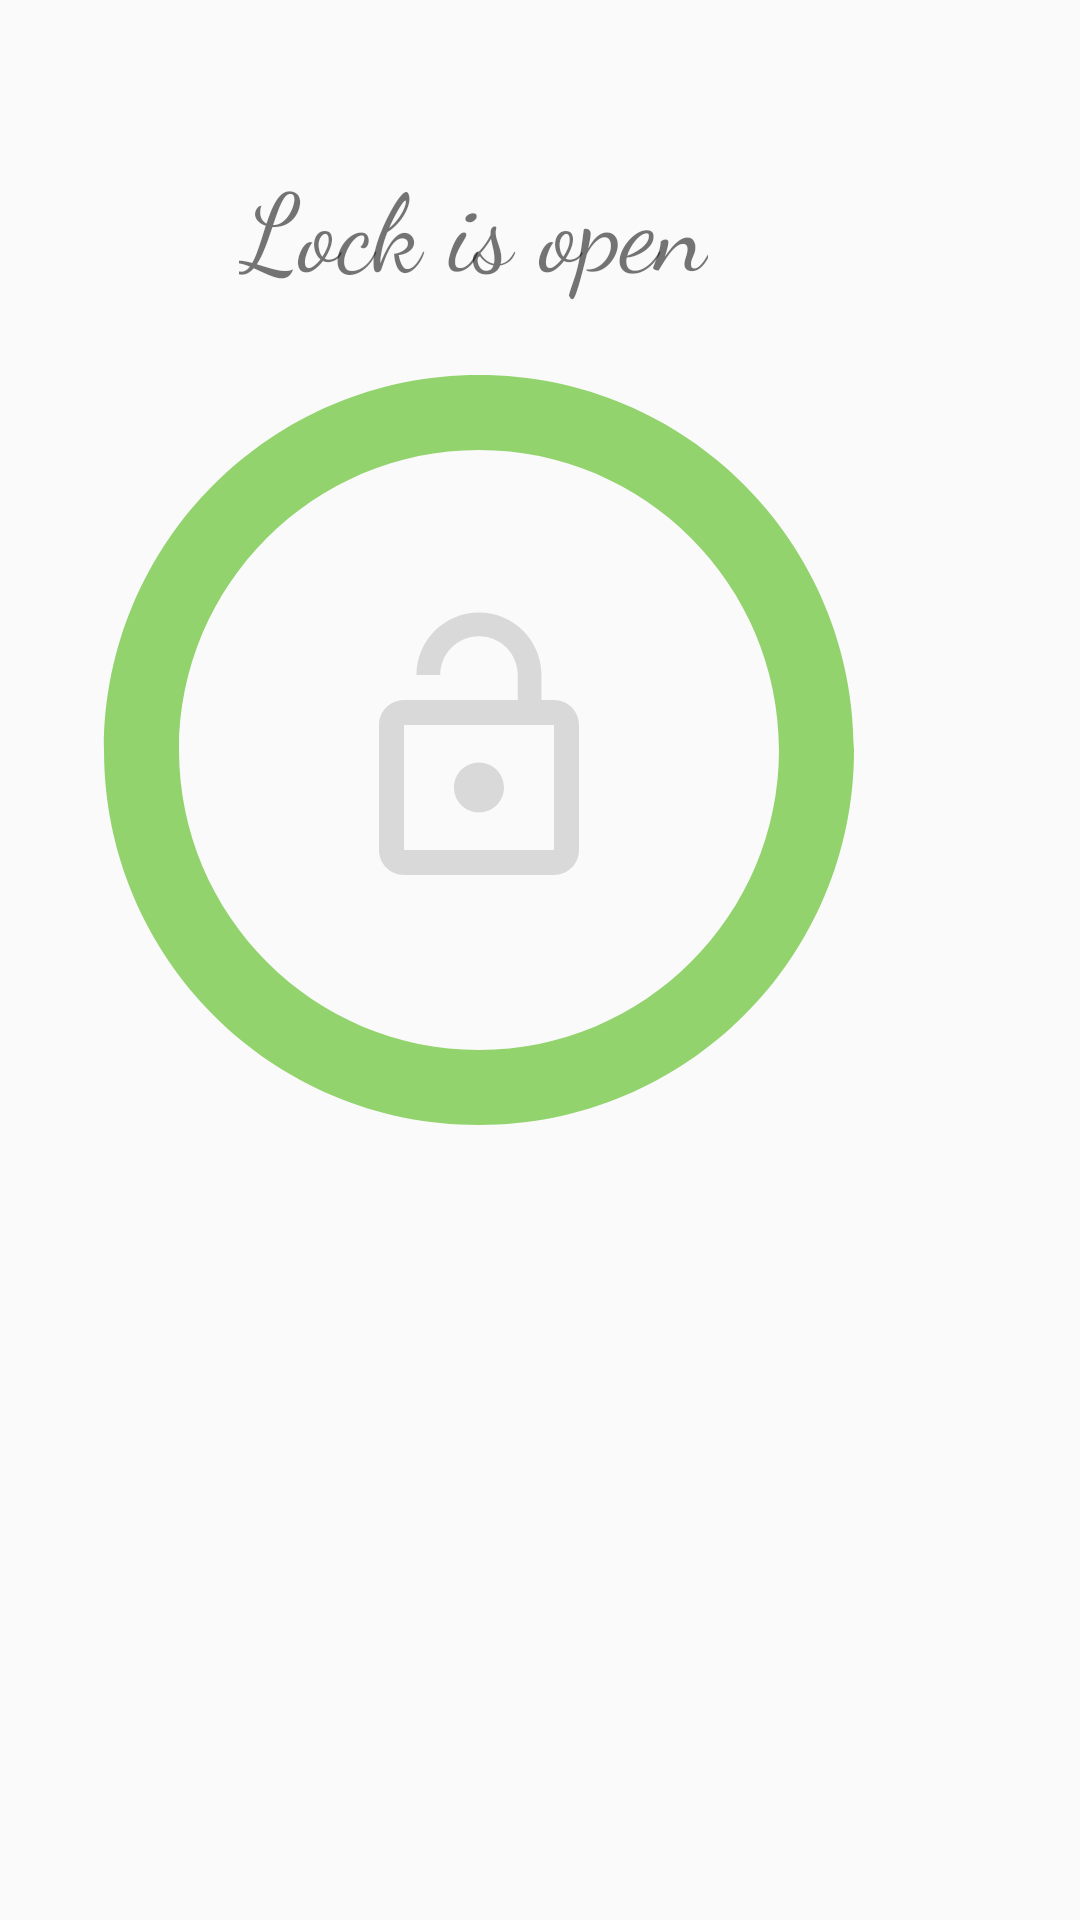

Screen size 1080 × 1920. Icon name, then its box in pixels as (x1, y1, x2, y2):
unlock: (379, 613, 579, 875)
